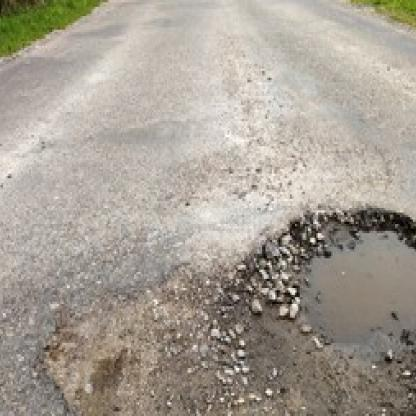pothole: (239, 203, 416, 416)
